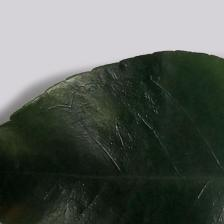healthy: (5, 52, 224, 224)
